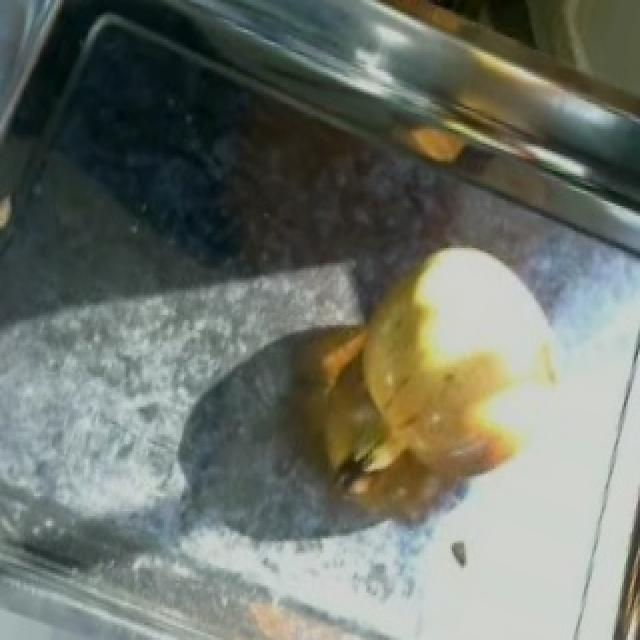fruit: (332, 216, 586, 437)
